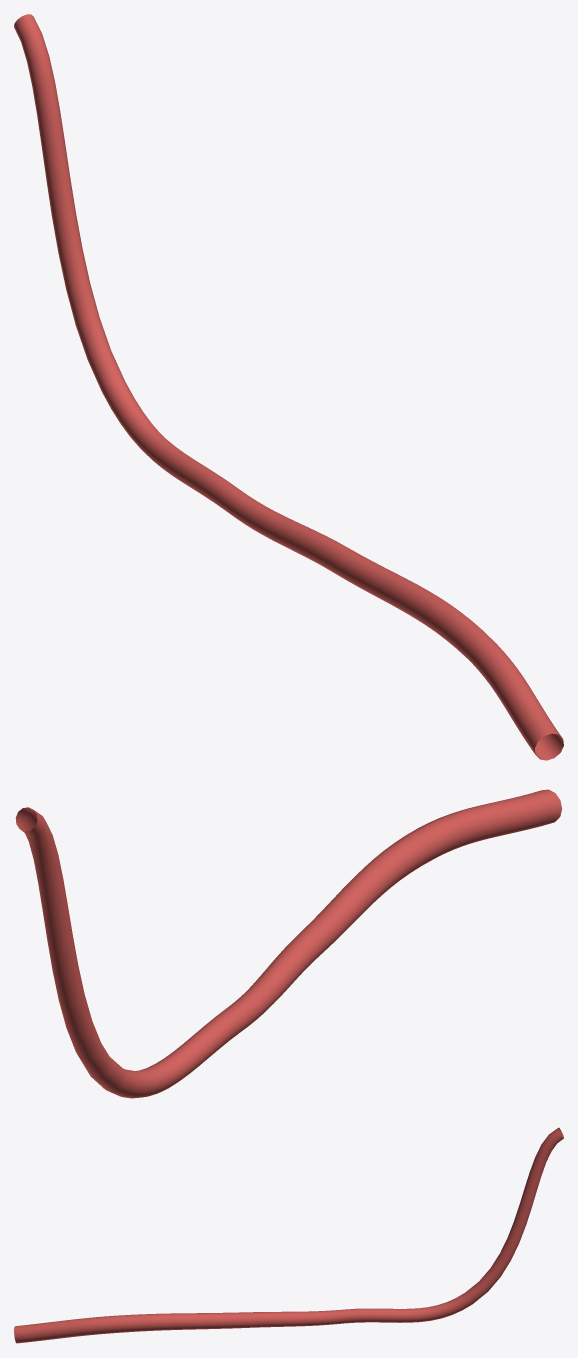
The picture shows the model from 3 angles, top to bottom: view 1: azimuth 30°, elevation 25°; view 2: azimuth 150°, elevation 25°; view 3: azimuth 270°, elevation 25°; orthographic projection. The views are drawn at different scales.
Visible parts, largest first — view 1: 右侧尺侧下副动脉; view 2: 右侧尺侧下副动脉; view 3: 右侧尺侧下副动脉.
Part boxes in pixels (x1,y1,x2,y2): 右侧尺侧下副动脉: (14,14,563,760); 右侧尺侧下副动脉: (15,789,561,1098); 右侧尺侧下副动脉: (14,1127,563,1343).
Bounding box in the file's own units: 0.00692 × 0.039 × 0.0932.
